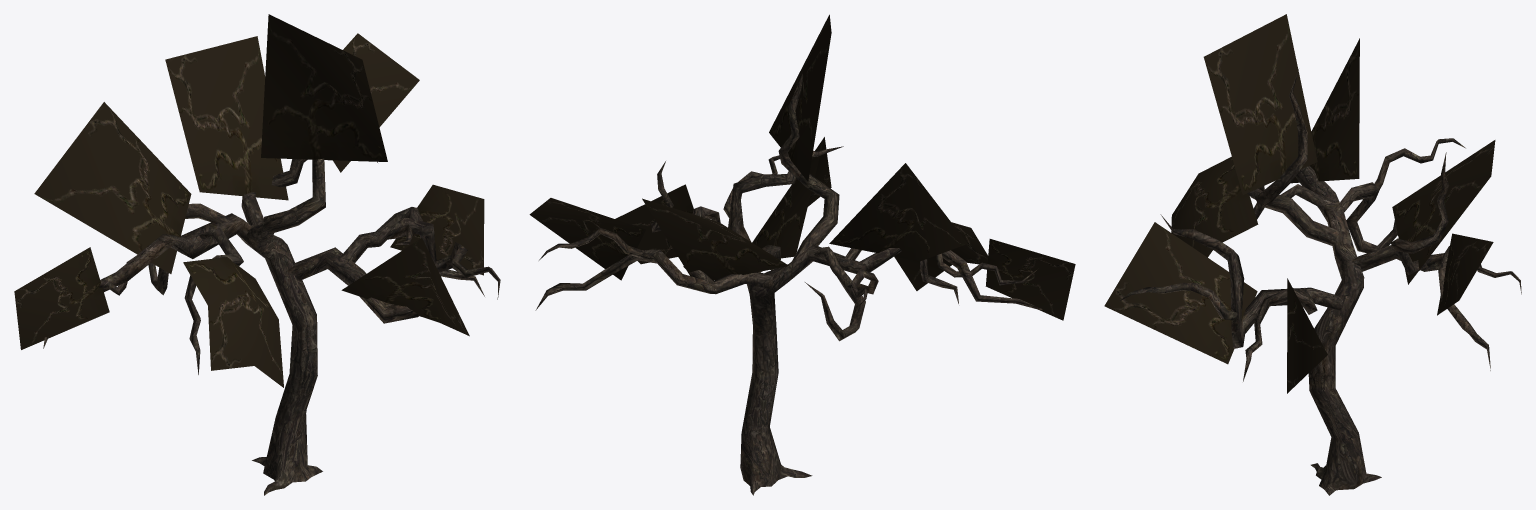
File: longzhuashu_hl_21.fbx
3 renders of one model, left to right at view 1: azimuth 30°, elevation 25°; view 2: azimuth 150°, elevation 25°; view 3: azimuth 270°, elevation 25°, orthographic. The views are drawn at different scales.
Parts seen in each view (by area): view 1: longzhuashu_hl_21; view 2: longzhuashu_hl_21; view 3: longzhuashu_hl_21.
Part boxes in pixels (x1,y1,x2,y2): longzhuashu_hl_21: [14, 14, 500, 495]; longzhuashu_hl_21: [529, 14, 1075, 495]; longzhuashu_hl_21: [1104, 14, 1521, 495].
Size of what is drawn, in the model's own units: 761 by 702 by 593.
